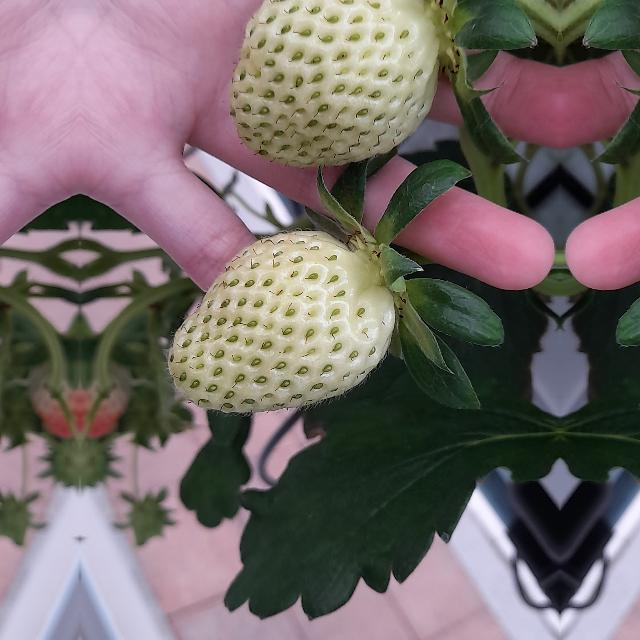Health_25: (168, 230, 394, 412), (227, 0, 447, 172)
